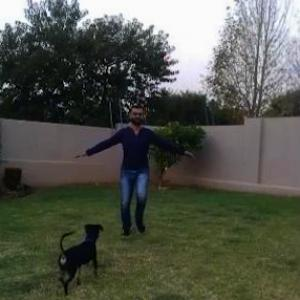land: (76, 101, 206, 258)
